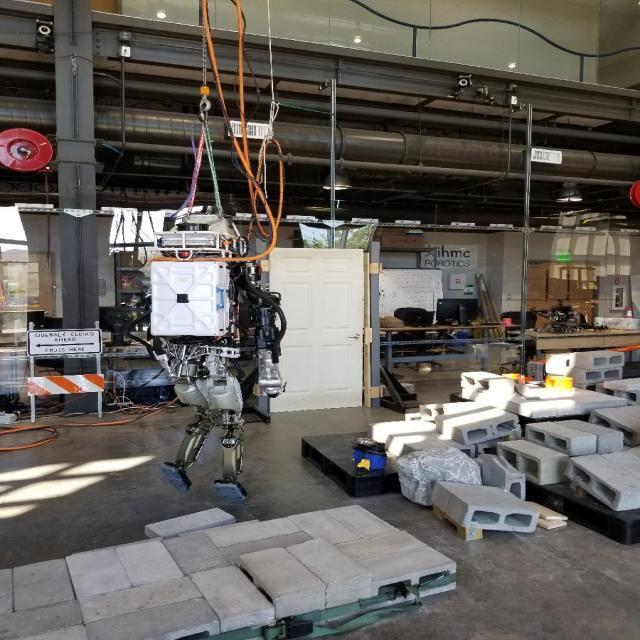door: (265, 244, 368, 411), (351, 331, 369, 344)
